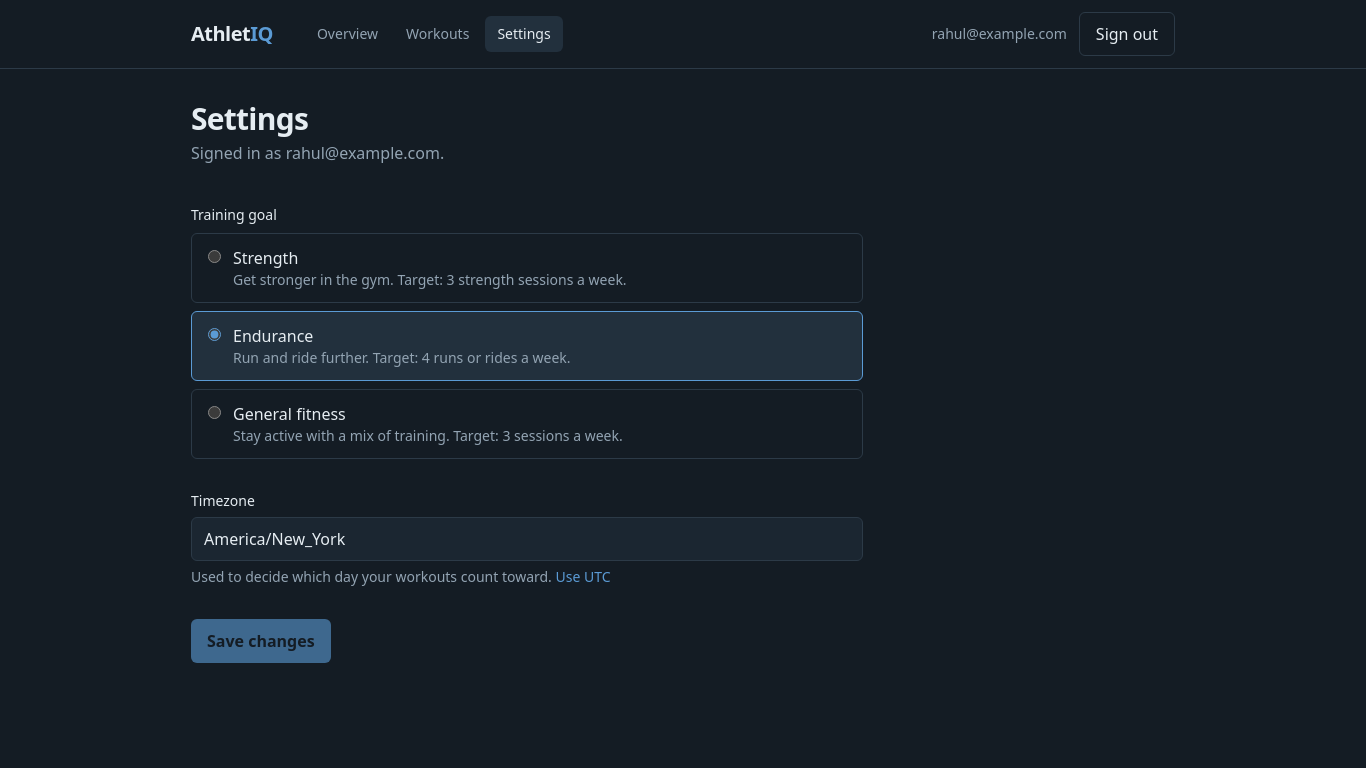
SettingsPage › shows a backend validation error on the timezone field
The width and height of the screenshot is (1366, 768).
expect the heading "Settings" is shown: met, box x1=191 y1=98 x2=308 y2=139
Replace the text in the field labelled "Timezone" with "Nowhere/Land": [527, 539] box x1=191 y1=517 x2=863 y2=561
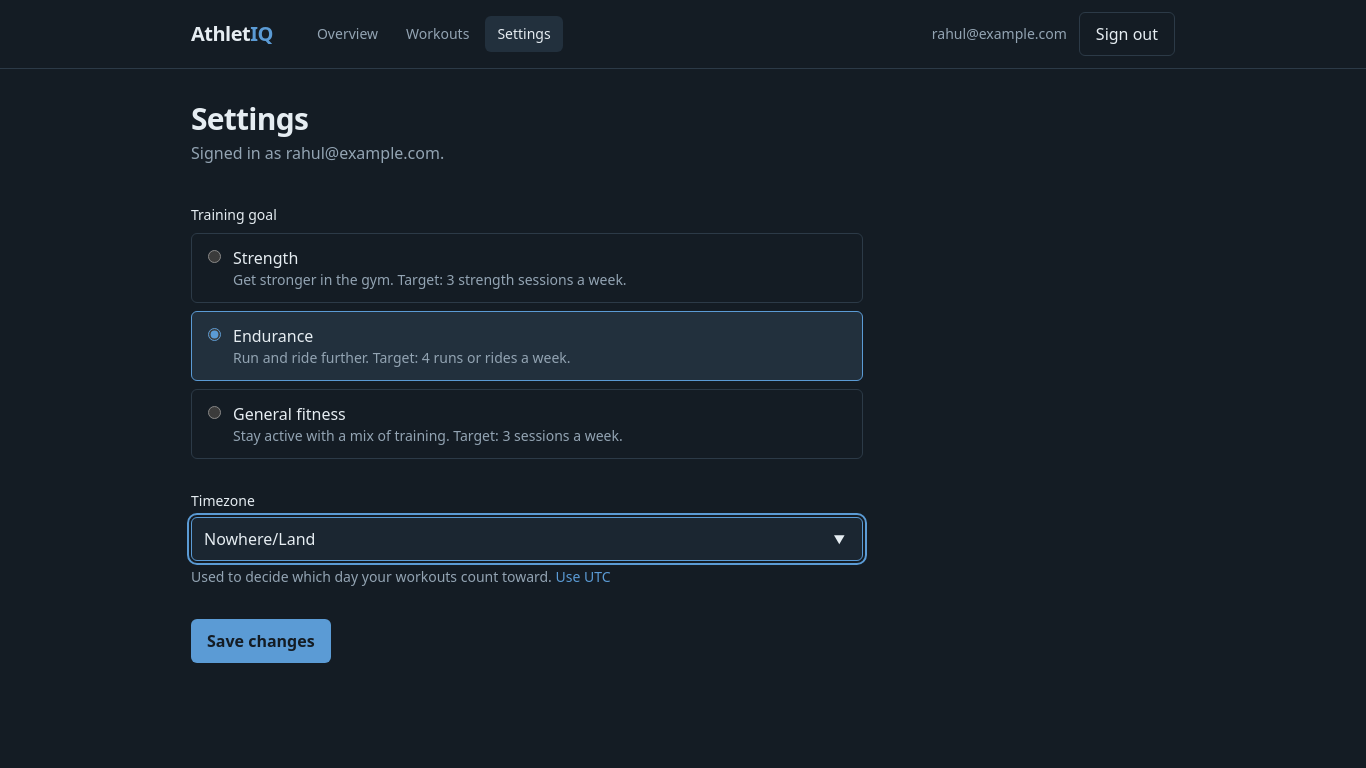
Click the button "Save changes": [261, 641] box x1=191 y1=619 x2=331 y2=663
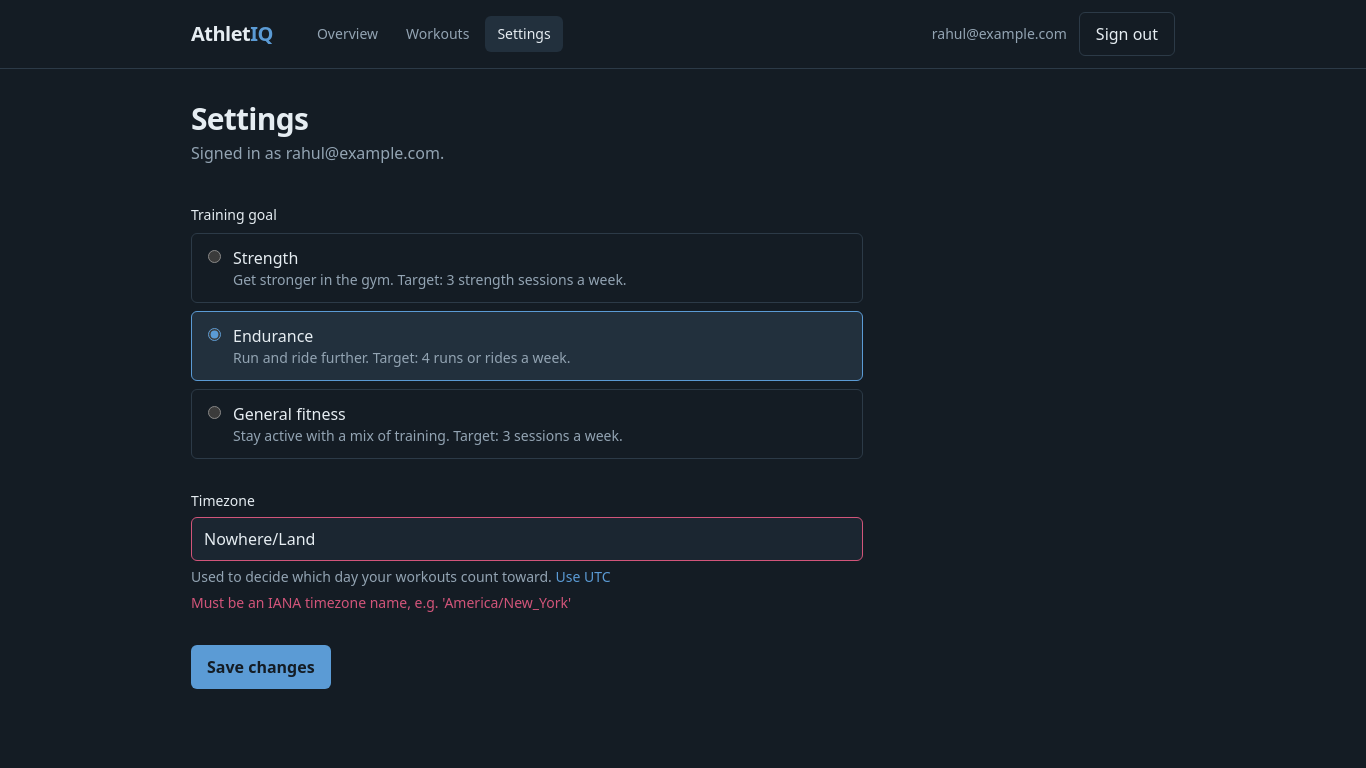
expect the text "Must be an IANA timezone name, e.g. 'America/New_York'" is shown: met, box x1=191 y1=593 x2=571 y2=612
